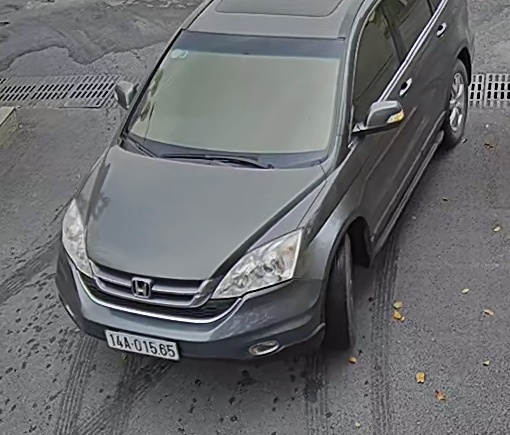vehicle plate: (98, 326, 181, 367)
